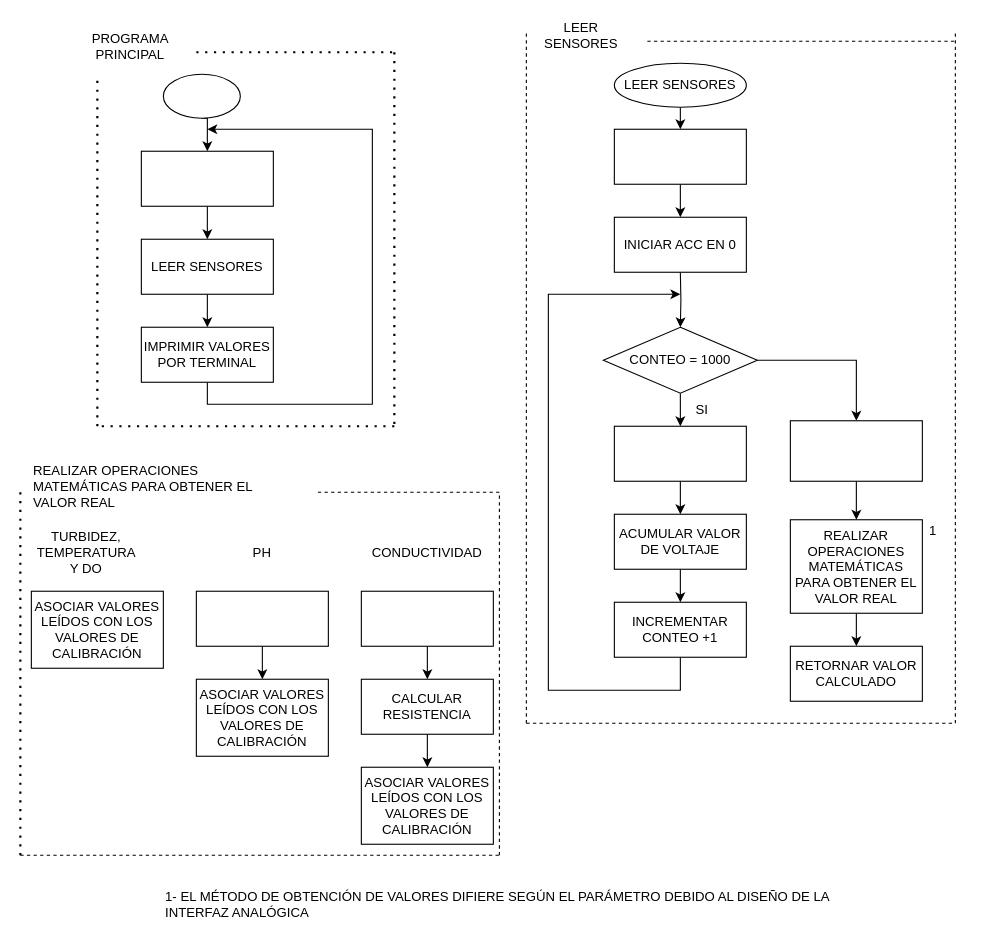
This 985x939 diagram has some shape labels left out. Here are the shapes that lost their labels. From the top down, the box of each, then its label:
(162, 73, 240, 118): INICIO
(613, 128, 746, 184): INICIAR CONTEO EN 0
(140, 150, 273, 206): INICIALIZAR TERMINAL SERIAL
(613, 425, 746, 481): LEER VOLTAJE DE SENSOR
(789, 420, 922, 481): PROMEDIAR VOLTAJE CON ACC Y CONTADOR
(195, 590, 328, 646): DESHACER LA AMPLIFICACIÓN X3
(360, 590, 493, 646): DESHACER LA AMPLIFICACIÓN X11
